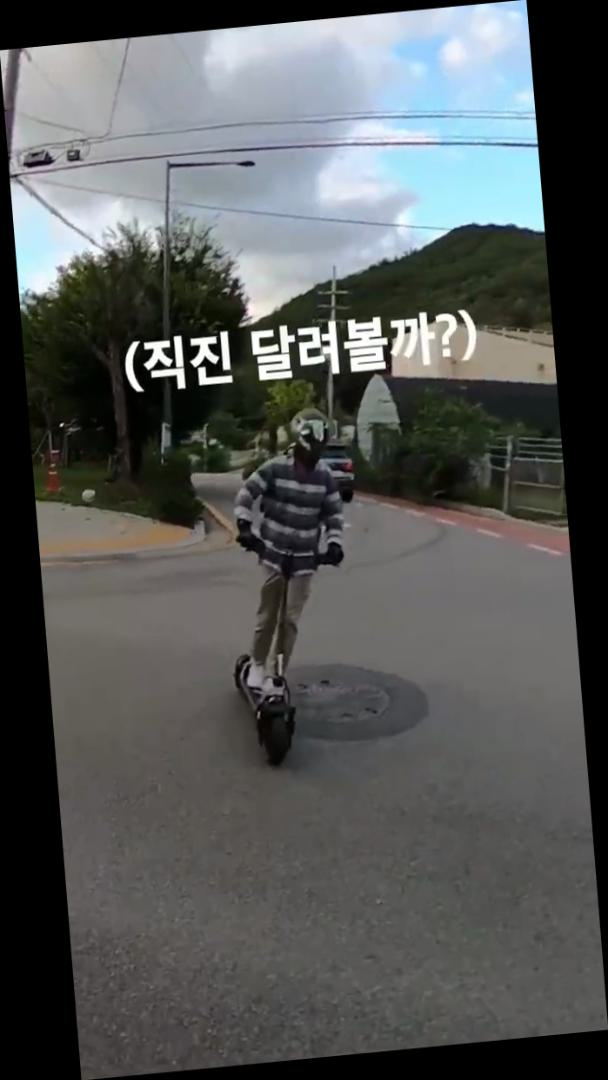helmet: (209, 401, 365, 775)
